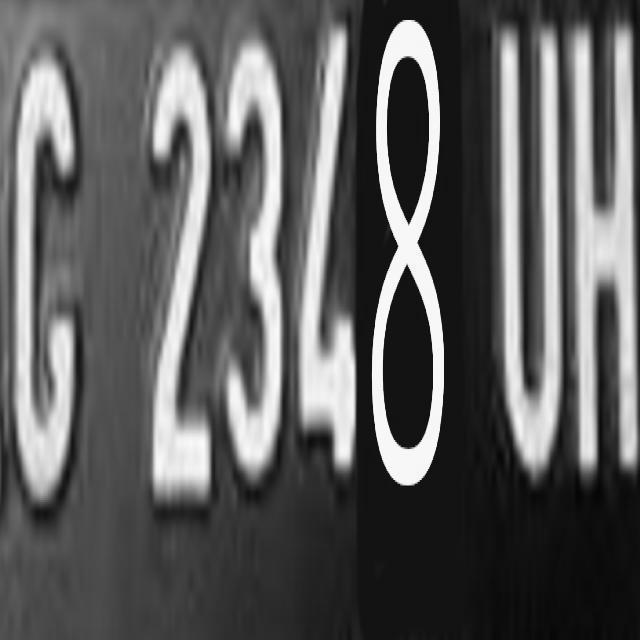2: (142, 47, 224, 510)
3: (222, 23, 296, 494)
4: (296, 24, 361, 486)
8: (360, 10, 456, 498)
G: (1, 33, 92, 520)
H: (570, 21, 636, 470)
U: (496, 20, 570, 490)
